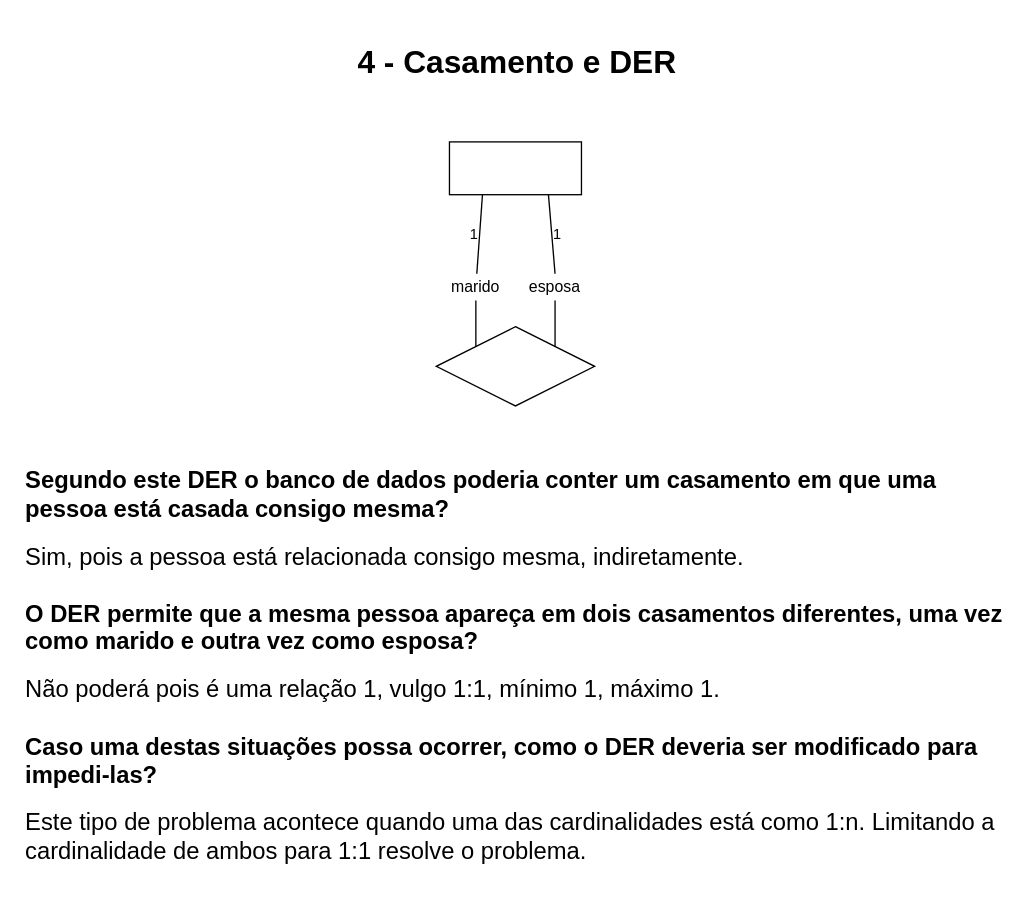
This 1034x903 diagram has some shape labels left out. The shapes that lost their labels are listed below. From the top down, each one's box as (x1, y1, x2, y2) in pixels, then its label:
(448, 141, 581, 195): PESSOA
(435, 325, 595, 406): CASAMENTO
